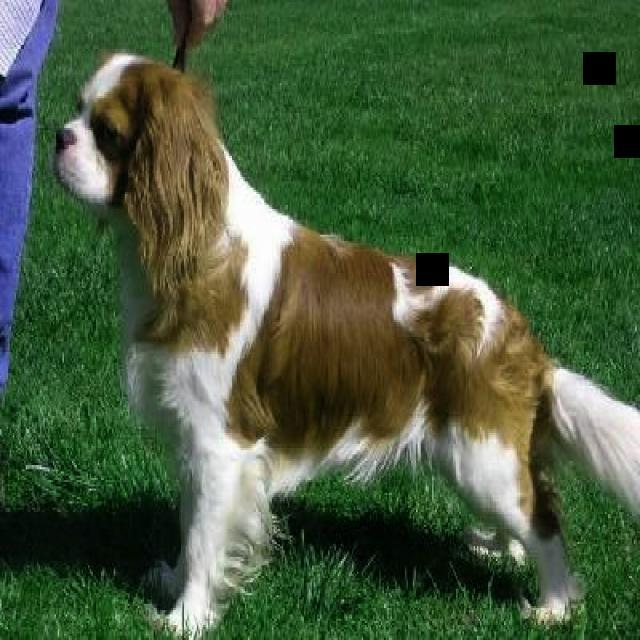adult_dog: (50, 49, 640, 634)
